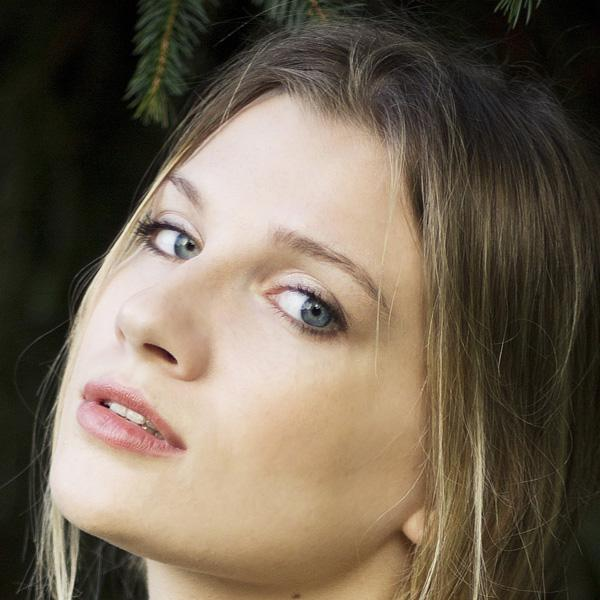Eyes: (257, 264, 352, 347), (134, 208, 218, 272)
